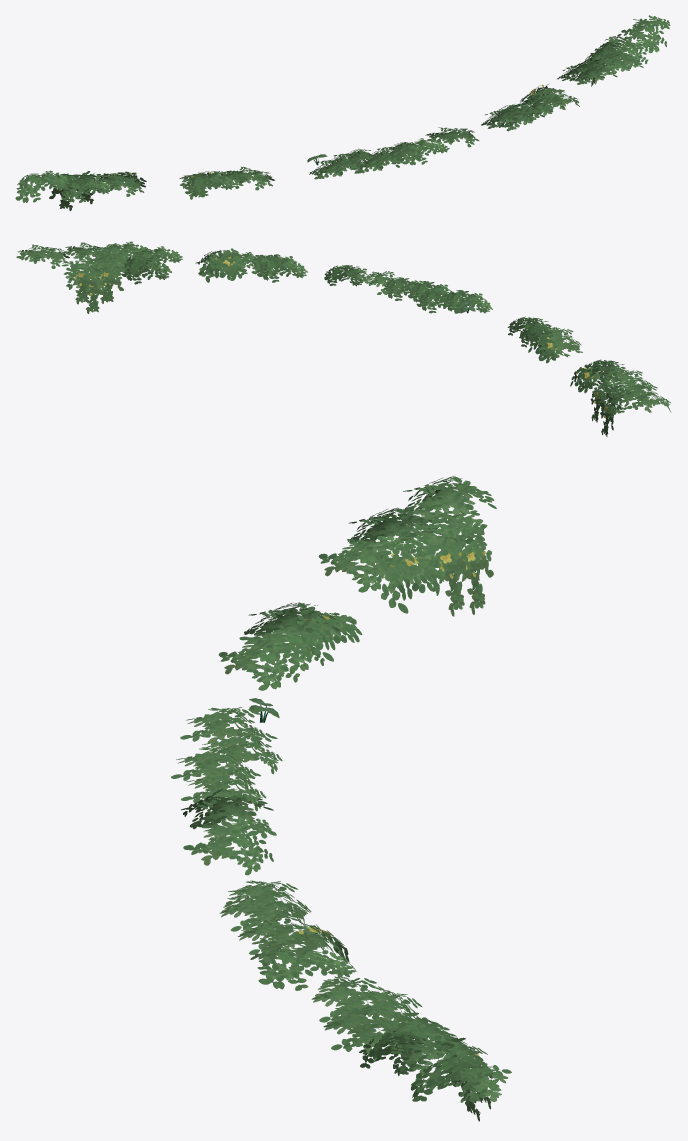
The model's file is pref_sm_4v4pointbake_CSD_S02_lv2.fbx.
3 views of the same model, one above another, from view 1: azimuth 30°, elevation 25°; view 2: azimuth 150°, elevation 25°; view 3: azimuth 270°, elevation 25° (orthographic). The views are drawn at different scales.
Parts seen in each view (by area): view 1: pref_sm_4v4pointbake_CSD_S02_lv2; view 2: pref_sm_4v4pointbake_CSD_S02_lv2; view 3: pref_sm_4v4pointbake_CSD_S02_lv2.
Boxes of the visible parts, x1=… form: pref_sm_4v4pointbake_CSD_S02_lv2: x1=15, y1=15, x2=670, y2=210; pref_sm_4v4pointbake_CSD_S02_lv2: x1=16, y1=241, x2=671, y2=436; pref_sm_4v4pointbake_CSD_S02_lv2: x1=171, y1=476, x2=511, y2=1121.
Size of the model in its own units: 25.68 by 2.05 by 5.99.
